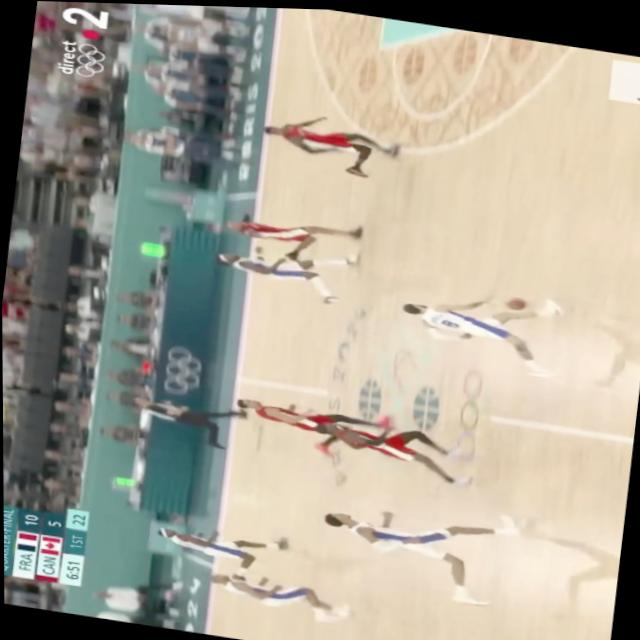ball_handler: (391, 265, 570, 361)
